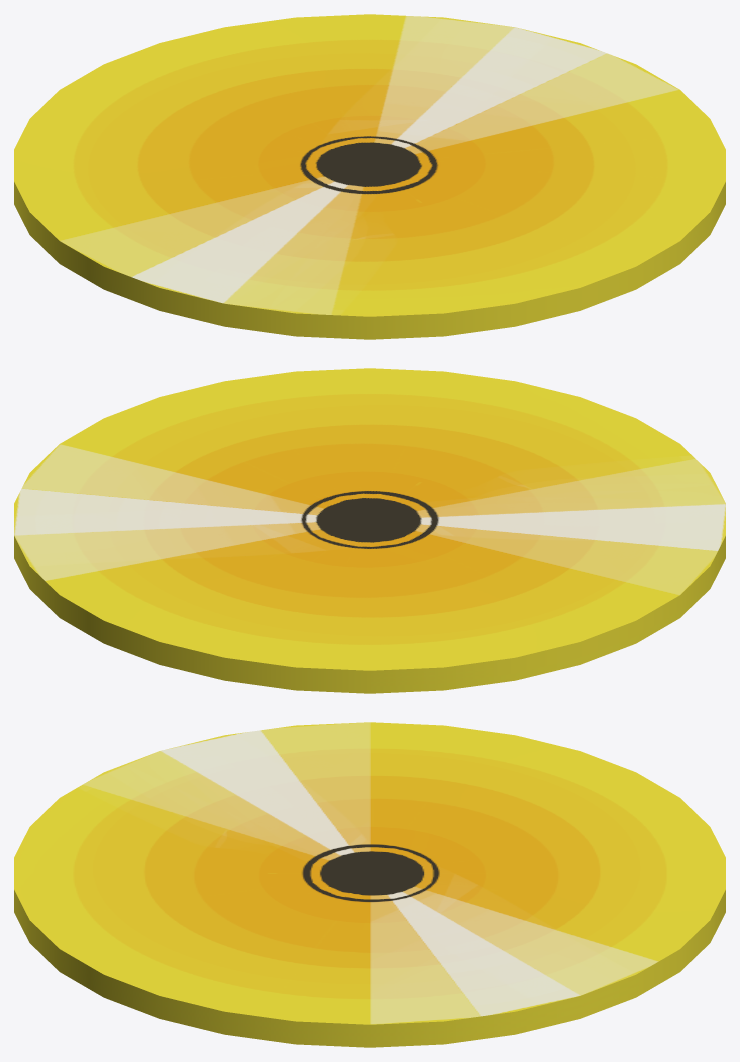
The model's file is DJ Disk (Updated Polygons).fbx.
3 renders of one model, top to bottom at view 1: azimuth 30°, elevation 25°; view 2: azimuth 150°, elevation 25°; view 3: azimuth 270°, elevation 25°, orthographic.
Visible parts, largest first — view 1: pCylinder27; view 2: pCylinder27; view 3: pCylinder27.
Boxes of the visible parts, x1,y1,x2,y2 form: pCylinder27: [14, 14, 725, 339]; pCylinder27: [14, 368, 725, 693]; pCylinder27: [14, 722, 725, 1047].
Bounding box in the file's own units: 5.36 × 0.19 × 5.33.
